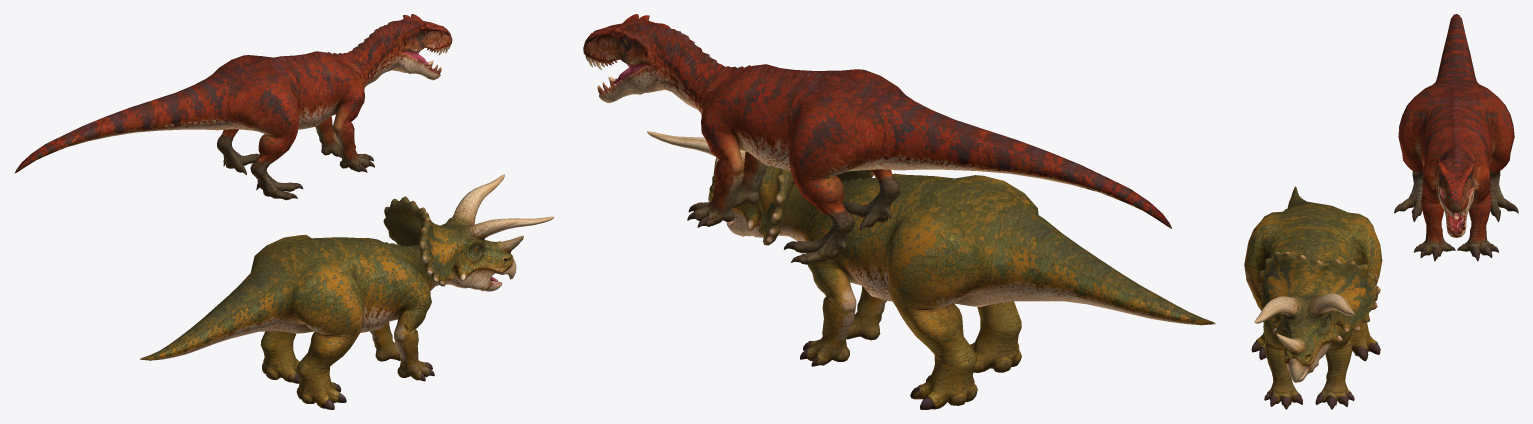
The model's file is tricarno_sculpts.glb.
The picture shows the model from 3 angles, left to right: view 1: azimuth 30°, elevation 25°; view 2: azimuth 150°, elevation 25°; view 3: azimuth 270°, elevation 25°; orthographic projection. The views are drawn at different scales.
Visible parts, largest first — view 1: tripo_node_5a9f7762-64b8-46d3-825b-86c8a63e1ceb; view 2: tripo_node_5a9f7762-64b8-46d3-825b-86c8a63e1ceb; view 3: tripo_node_5a9f7762-64b8-46d3-825b-86c8a63e1ceb.
Part boxes in pixels (box(x1,y1,x2,y2)): tripo_node_5a9f7762-64b8-46d3-825b-86c8a63e1ceb: box(14, 14, 554, 409); tripo_node_5a9f7762-64b8-46d3-825b-86c8a63e1ceb: box(583, 14, 1215, 409); tripo_node_5a9f7762-64b8-46d3-825b-86c8a63e1ceb: box(1244, 14, 1518, 409).
Bounding box in the file's own units: 0.9995 × 0.5952 × 0.5259.
Materials: 1 (1 with a texture image).
